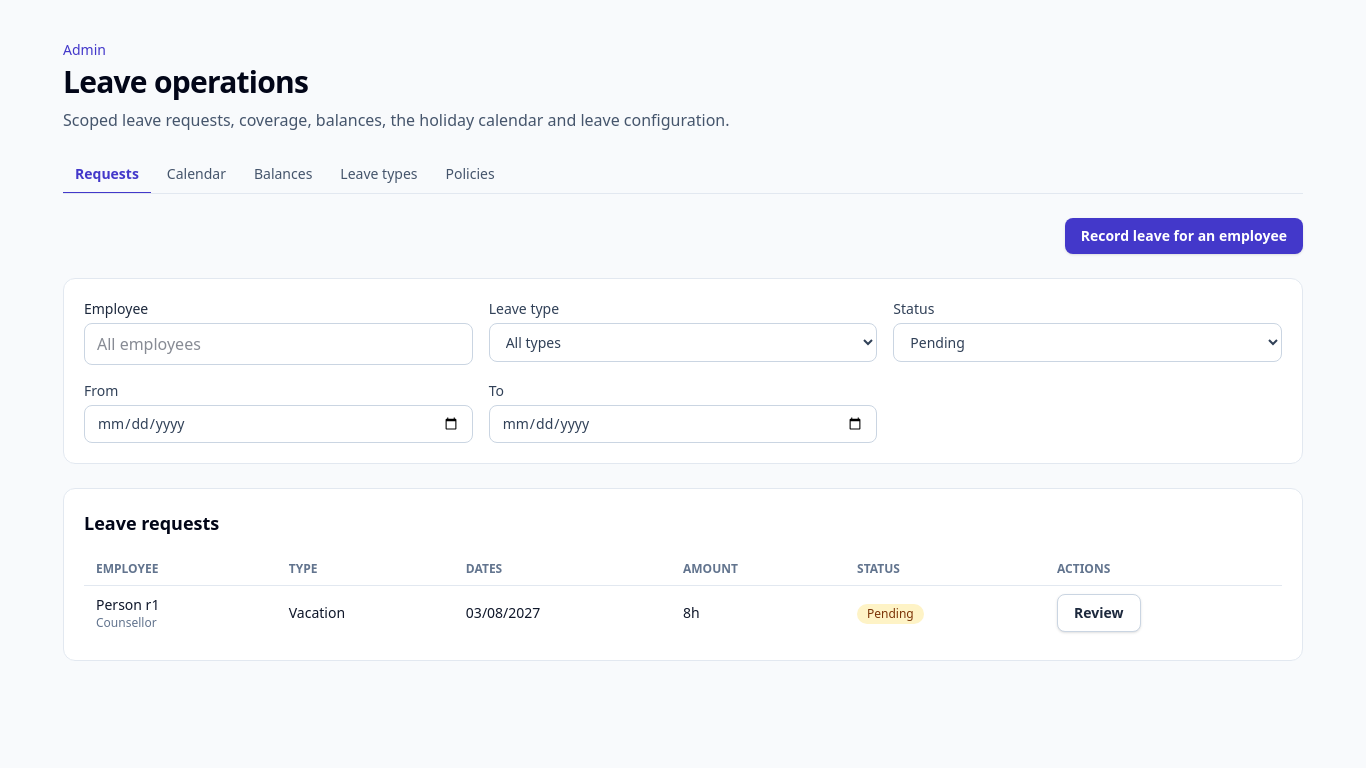
Test: Batch 6B — leave operations › explains why a pending request of an archived type cannot be approved (L1)
Click the button with aria-label "Review request from ": (1099, 613) [1057, 594, 1140, 632]
(page scrolled)
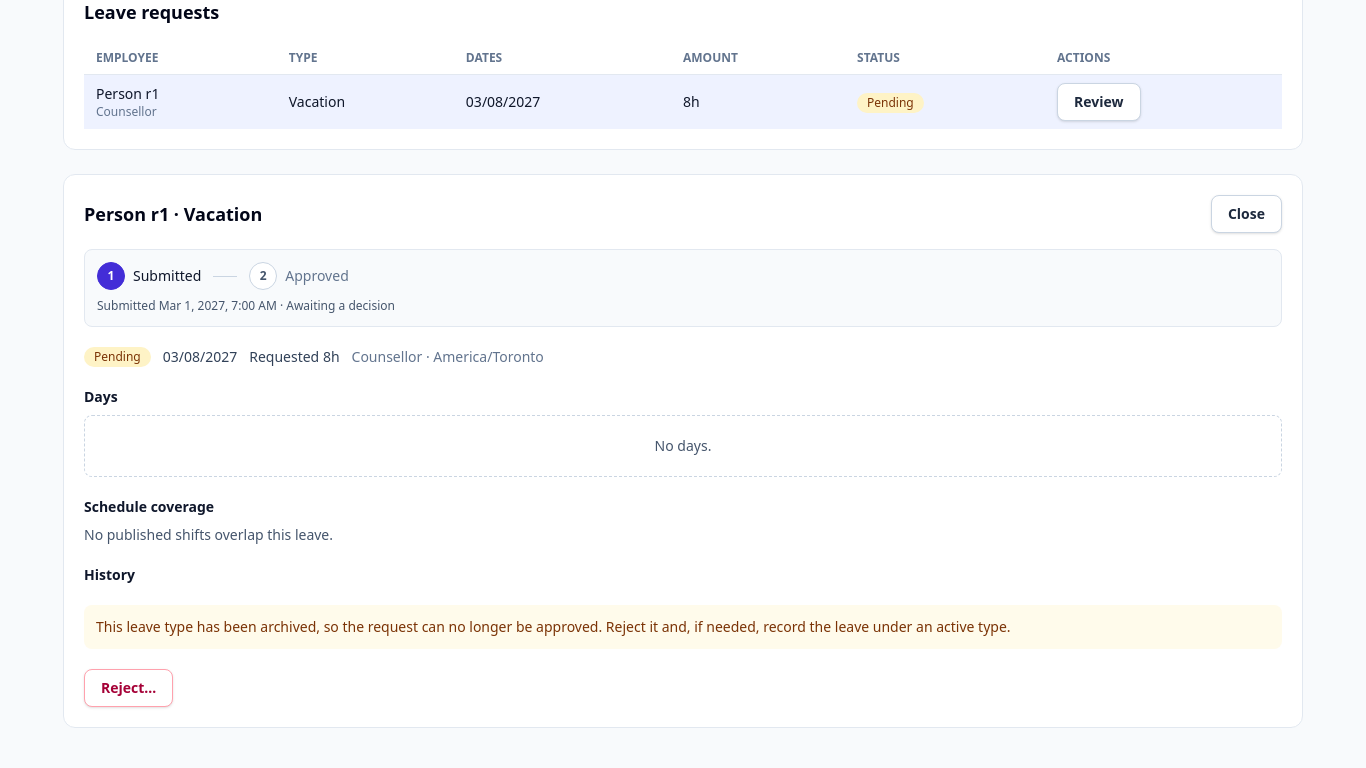
expect the text "This leave type has been archived" is shown: met, box [96, 617, 1010, 636]
expect the button "Reject…" is shown: met, box [84, 669, 173, 707]
